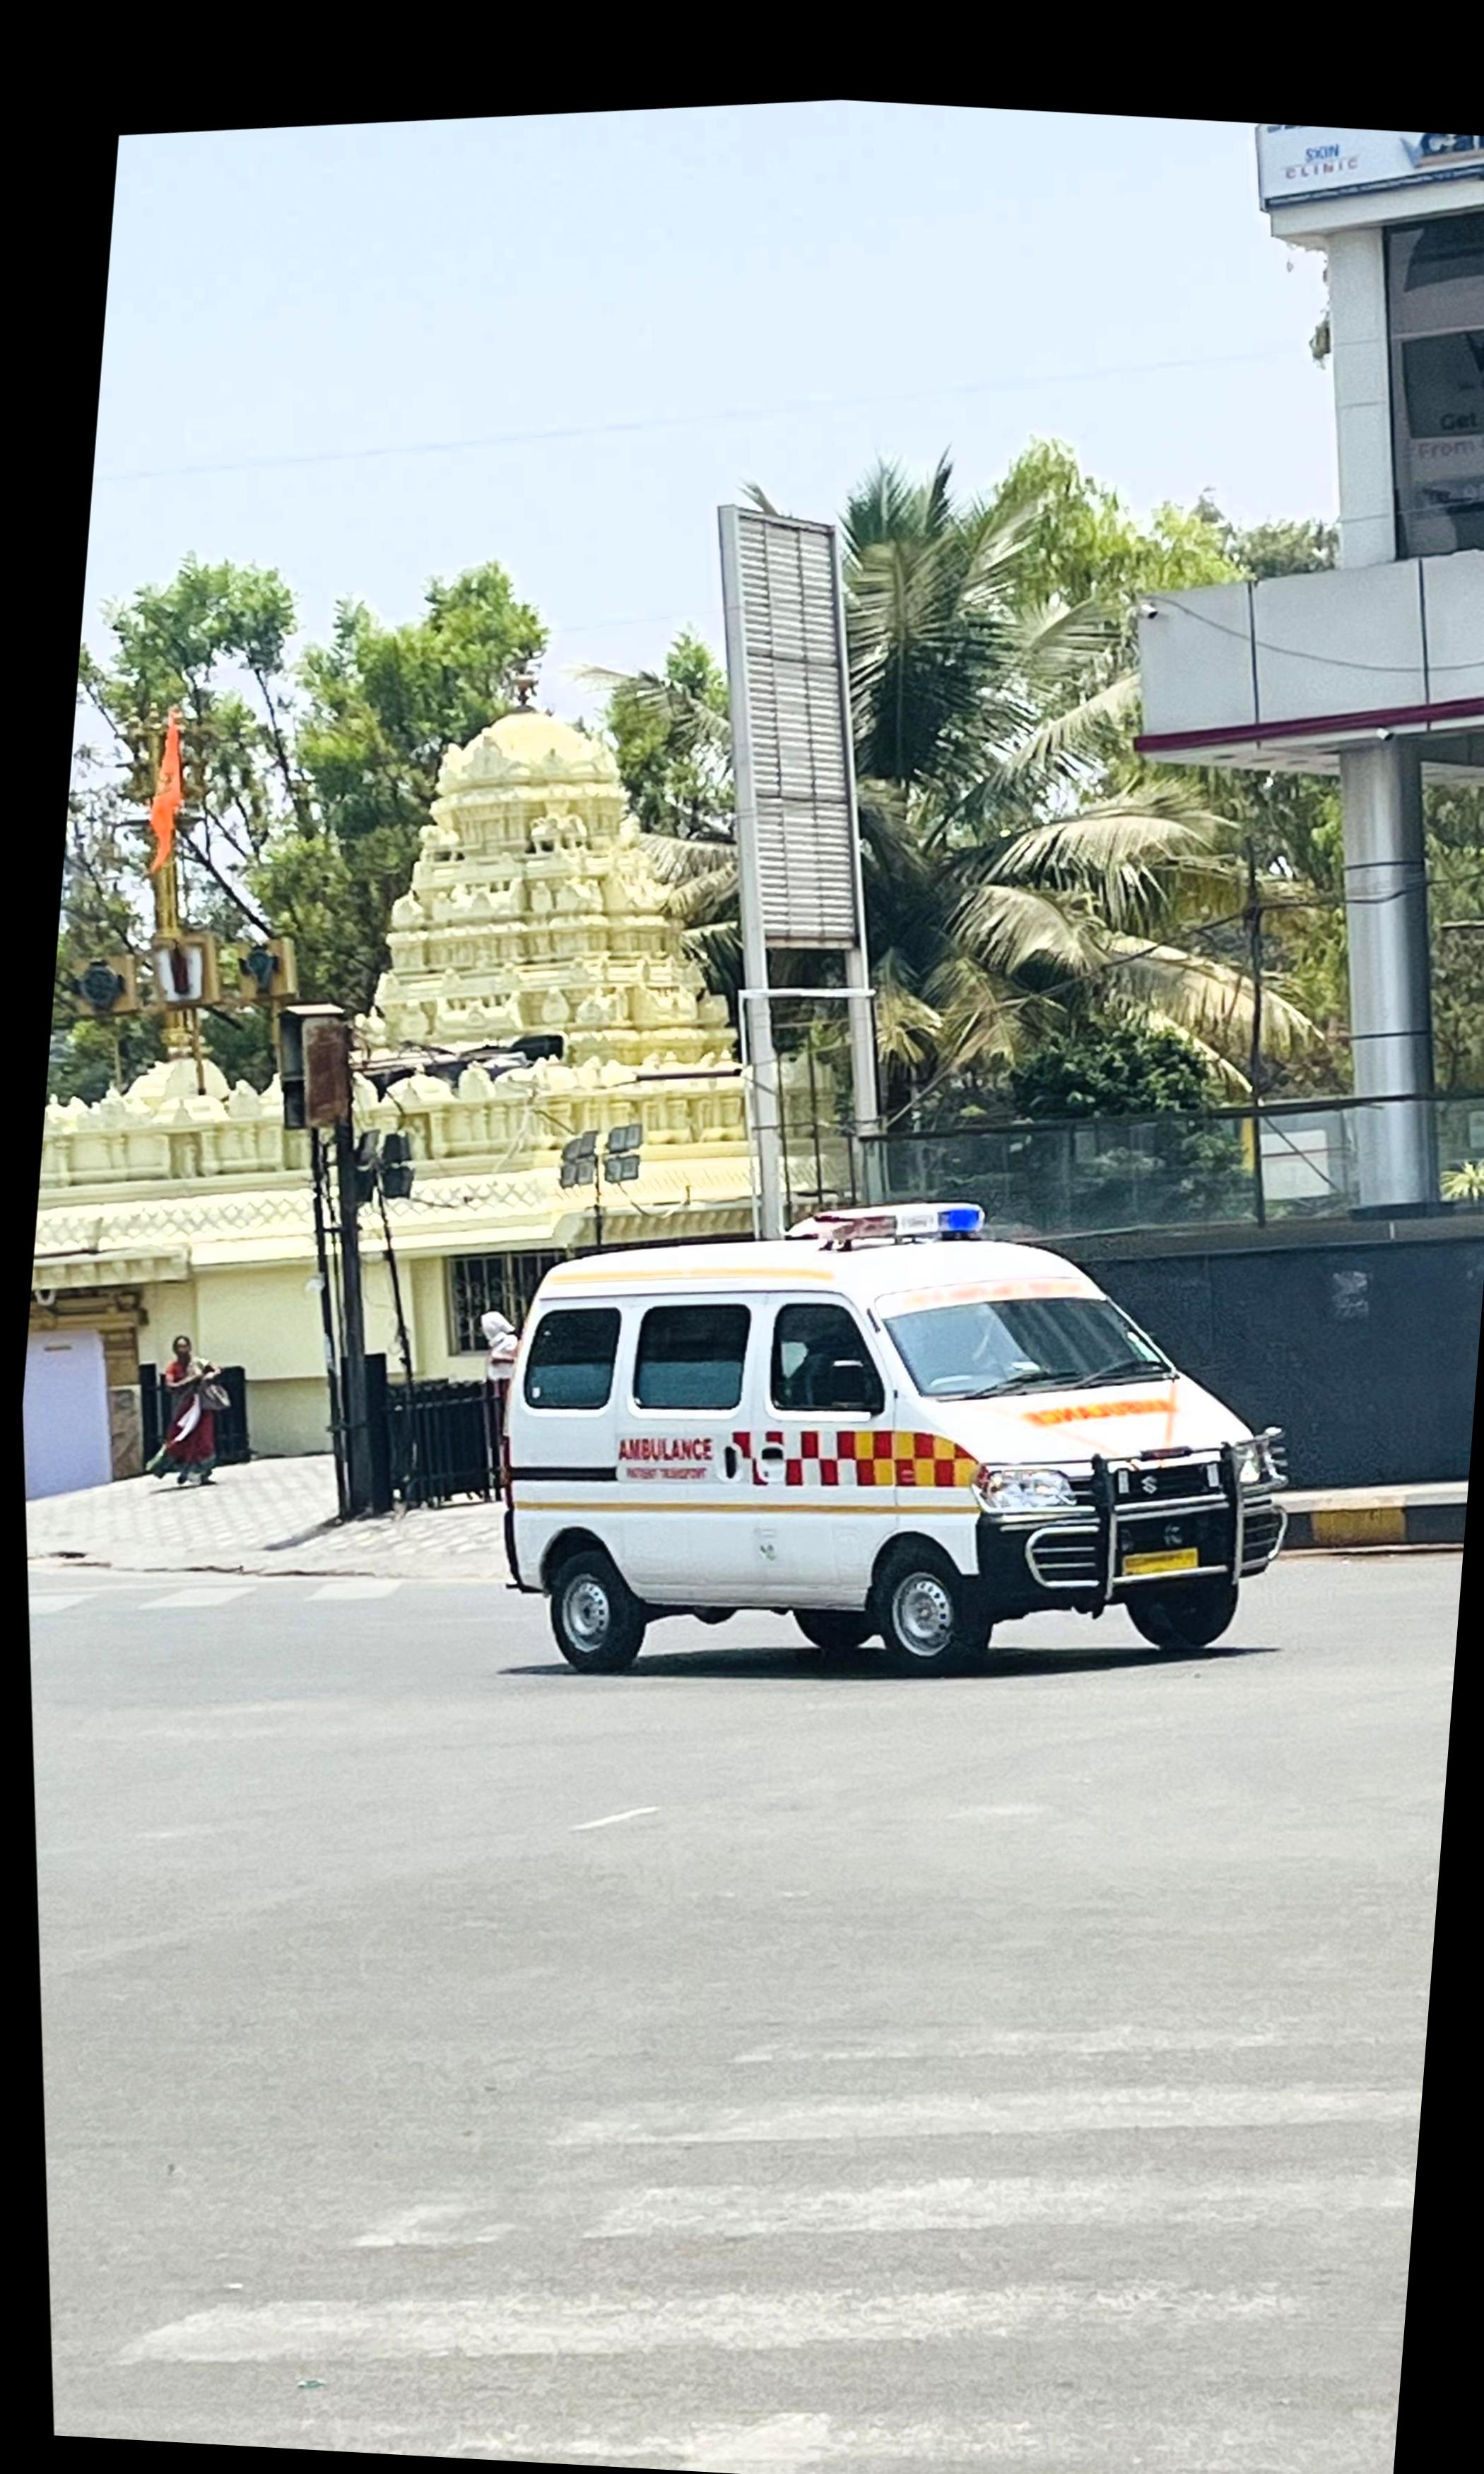ambulance: (498, 1207, 1279, 1677)
